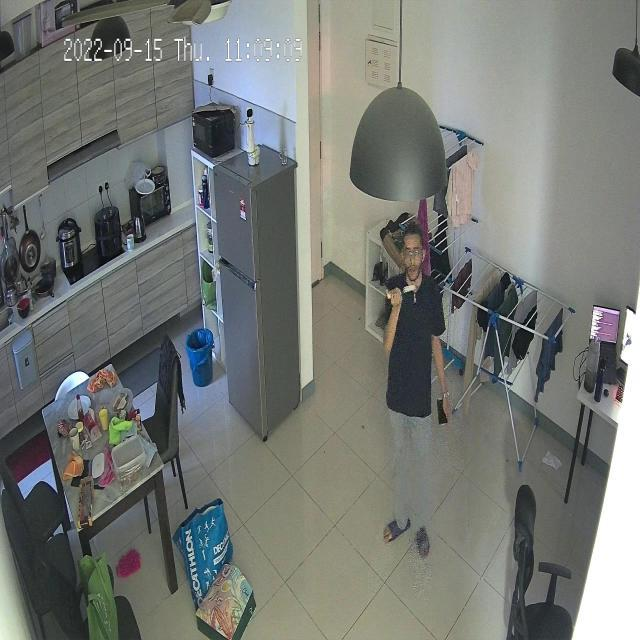Knife: (384, 277, 424, 306)
